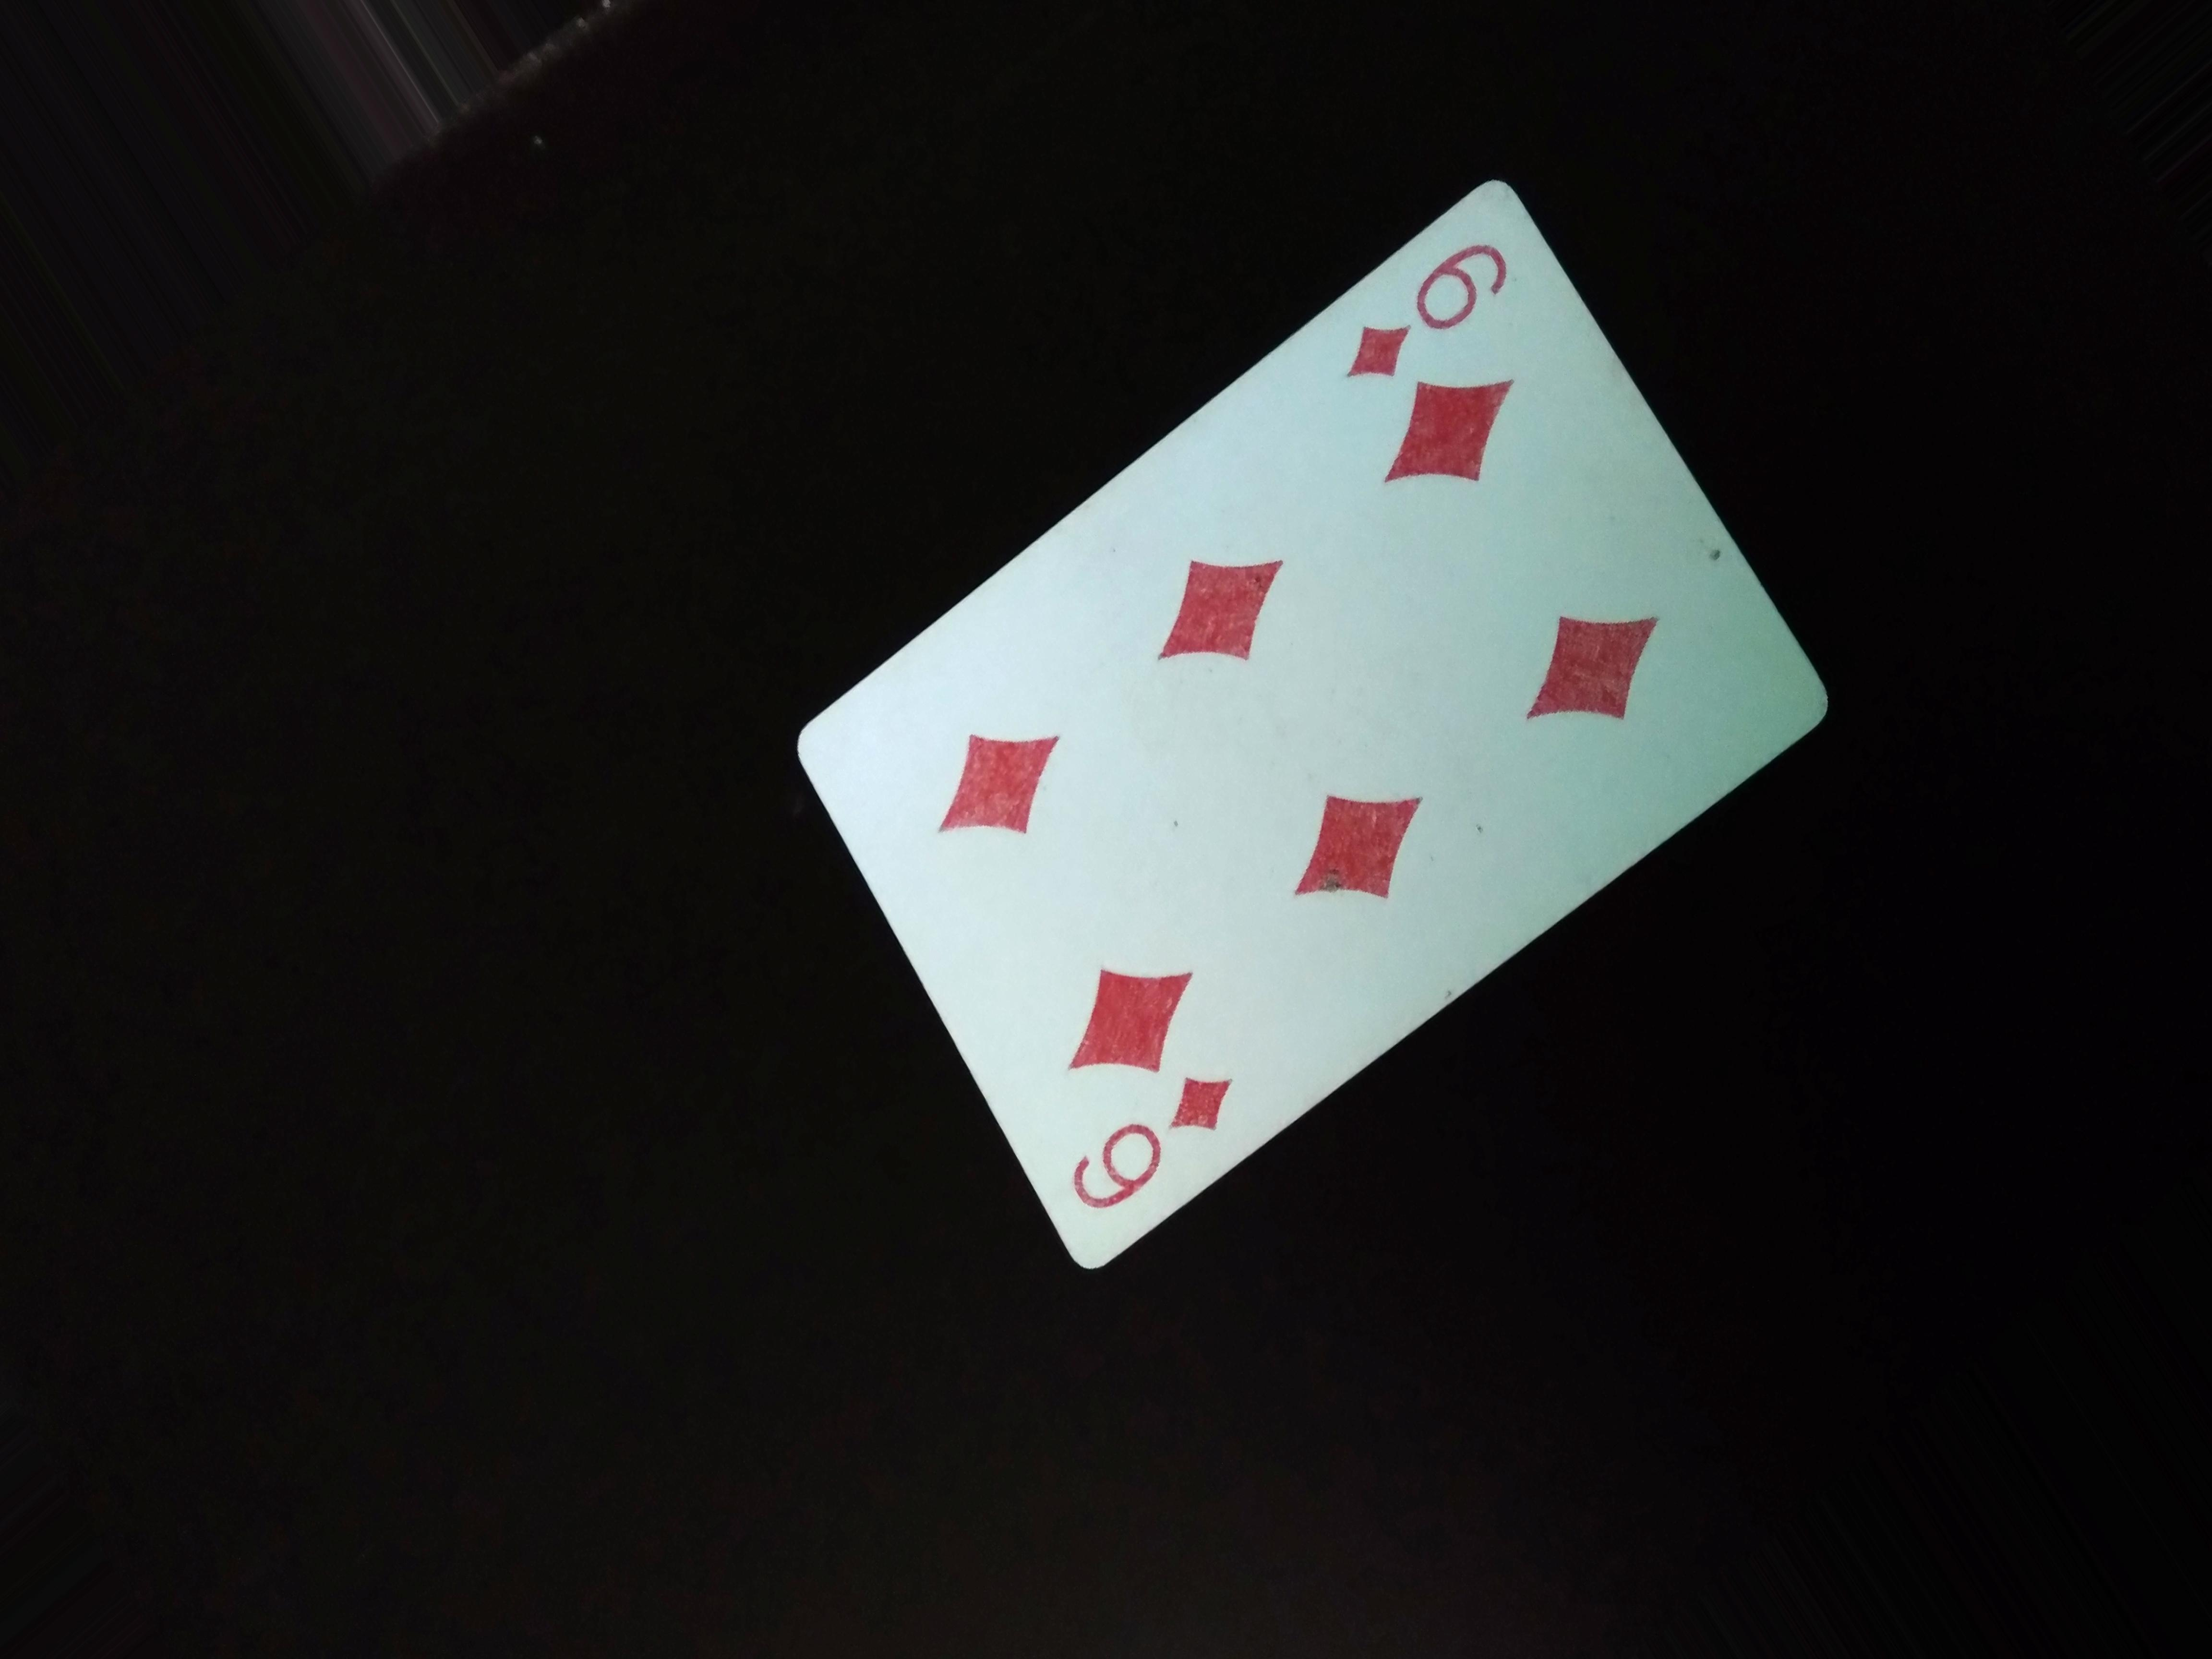6D: (1327, 237, 1522, 401)
